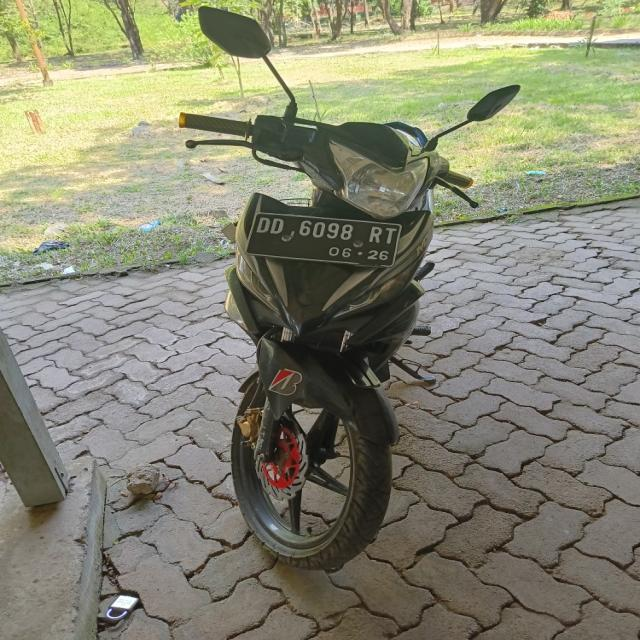plates: (248, 216, 406, 272)
